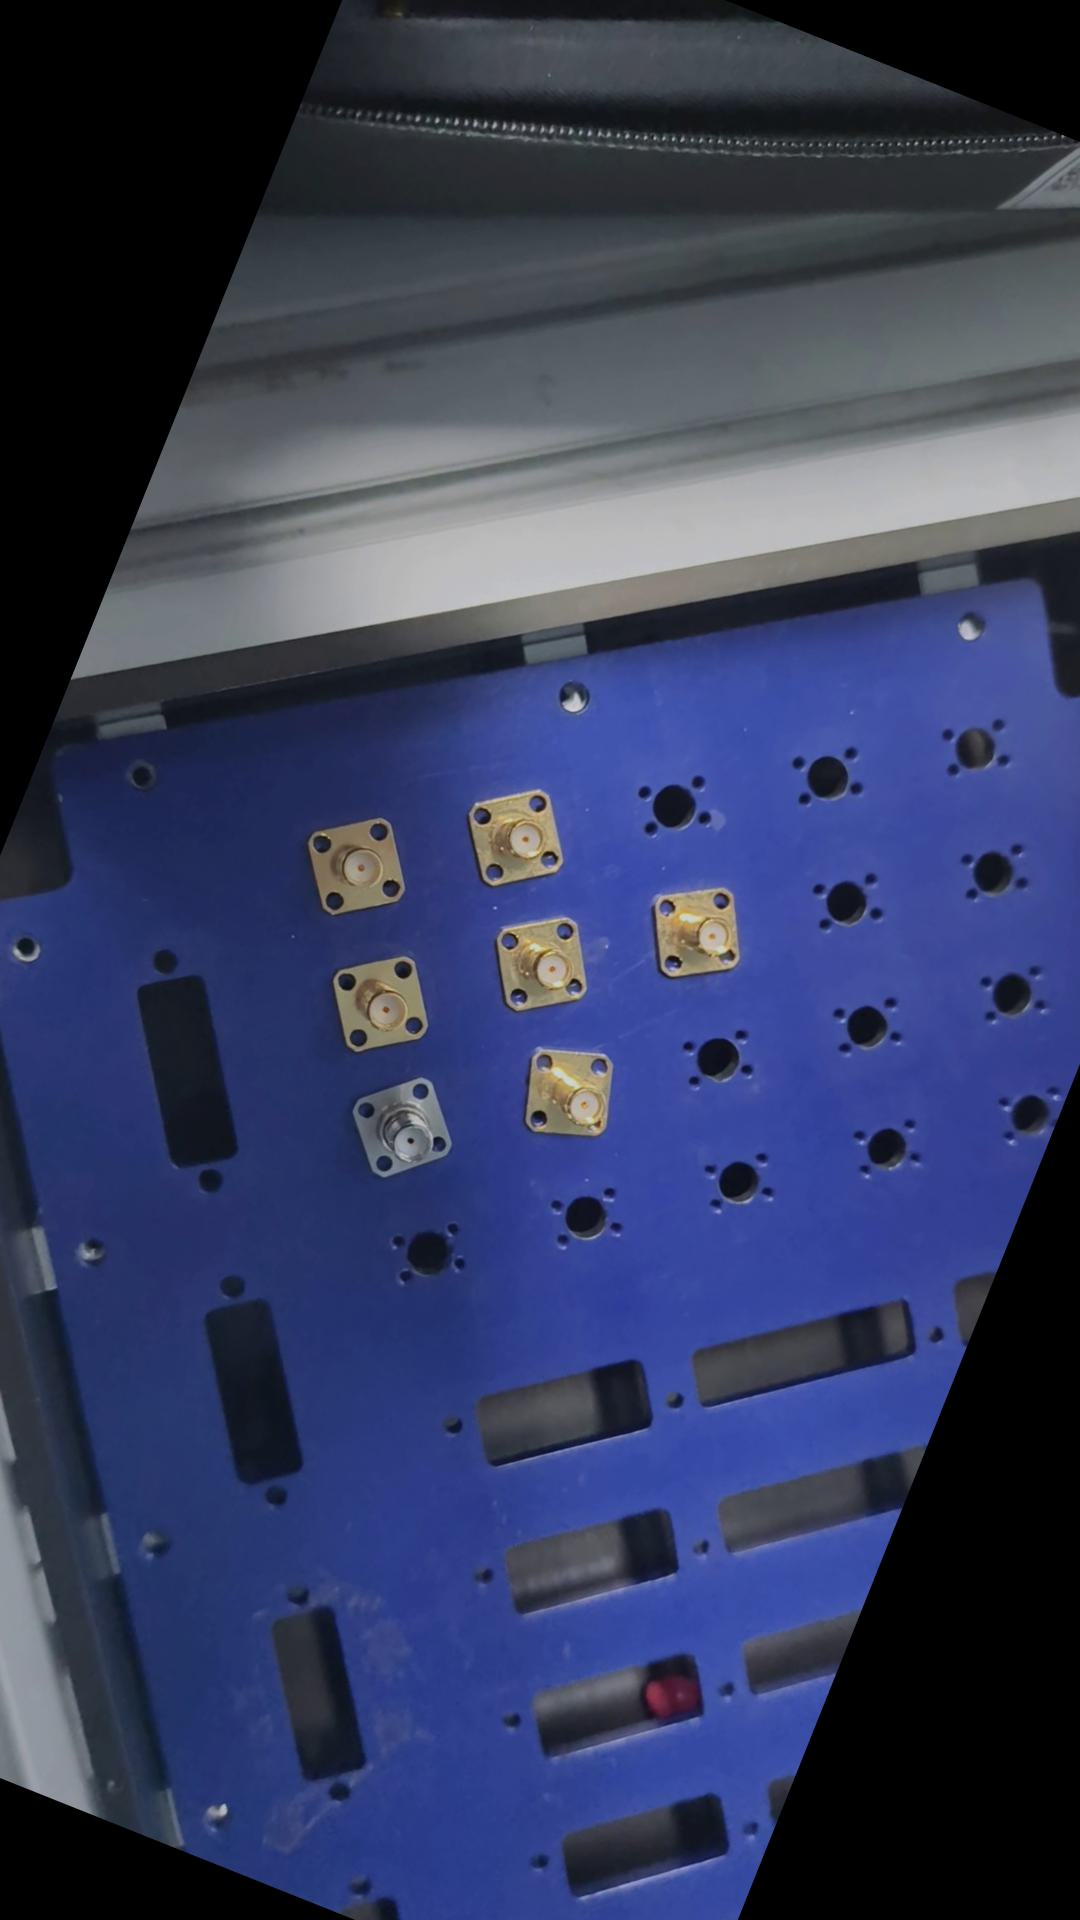SMA: (330, 1048, 480, 1204), (309, 927, 459, 1073), (450, 760, 592, 907), (287, 795, 427, 934), (504, 1033, 647, 1164), (475, 895, 611, 1033), (636, 861, 766, 994)
